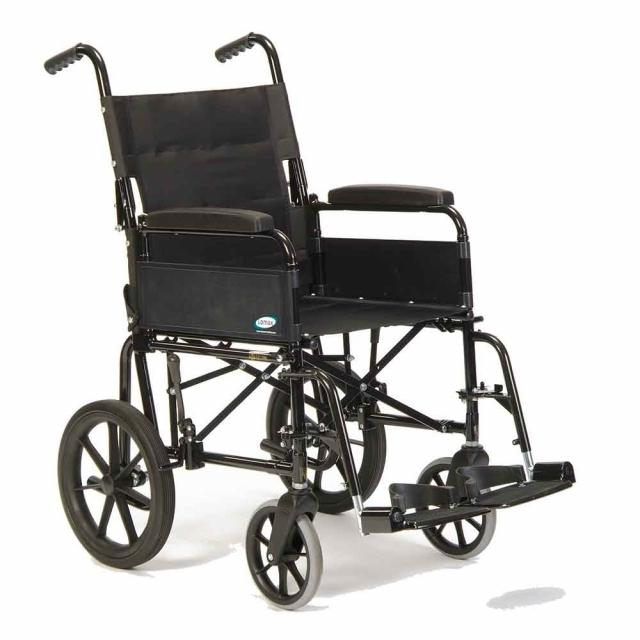wheelchair: (29, 17, 584, 613)
